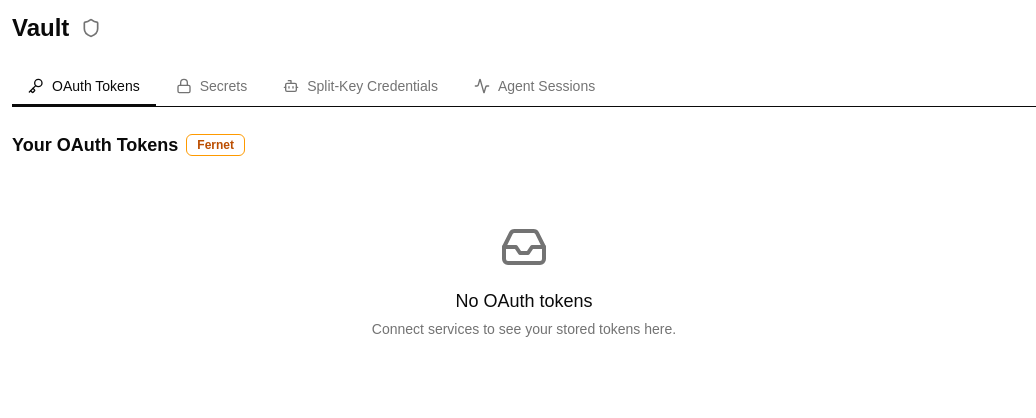
Test case: Vault tabs — Phase 3 › Split-Key Credentials tab shows subtitle
Click the button "Split-Key Credentials" at (361, 87), box left=267, top=68, right=454, bottom=106
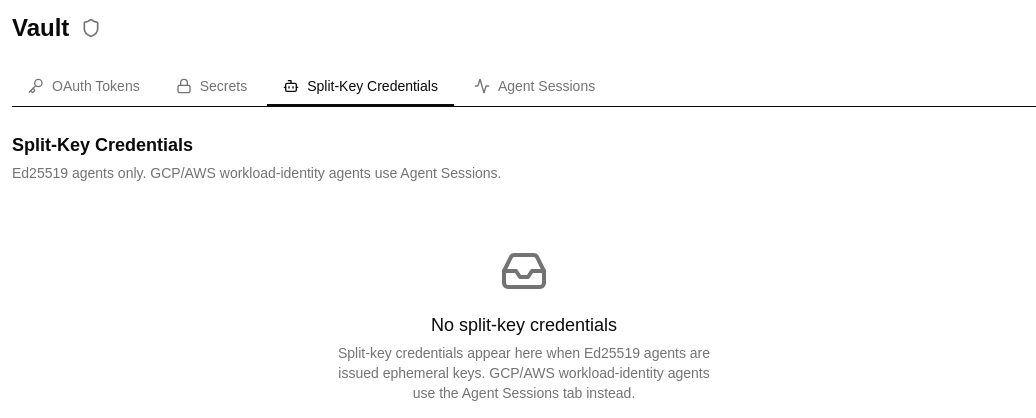
expect the text "Ed25519 agents only" is shown: met, box left=12, top=165, right=502, bottom=181
